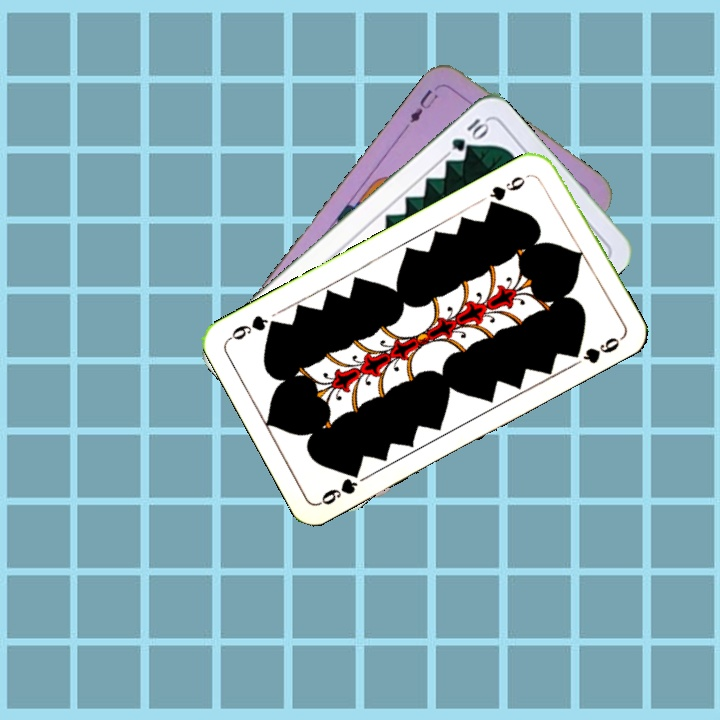EU: (401, 85, 441, 131)
G10: (447, 114, 491, 154)
G9: (315, 463, 364, 508), (484, 172, 528, 211)
